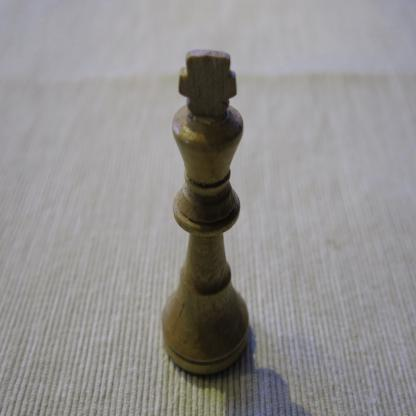white-king: (161, 48, 249, 377)
